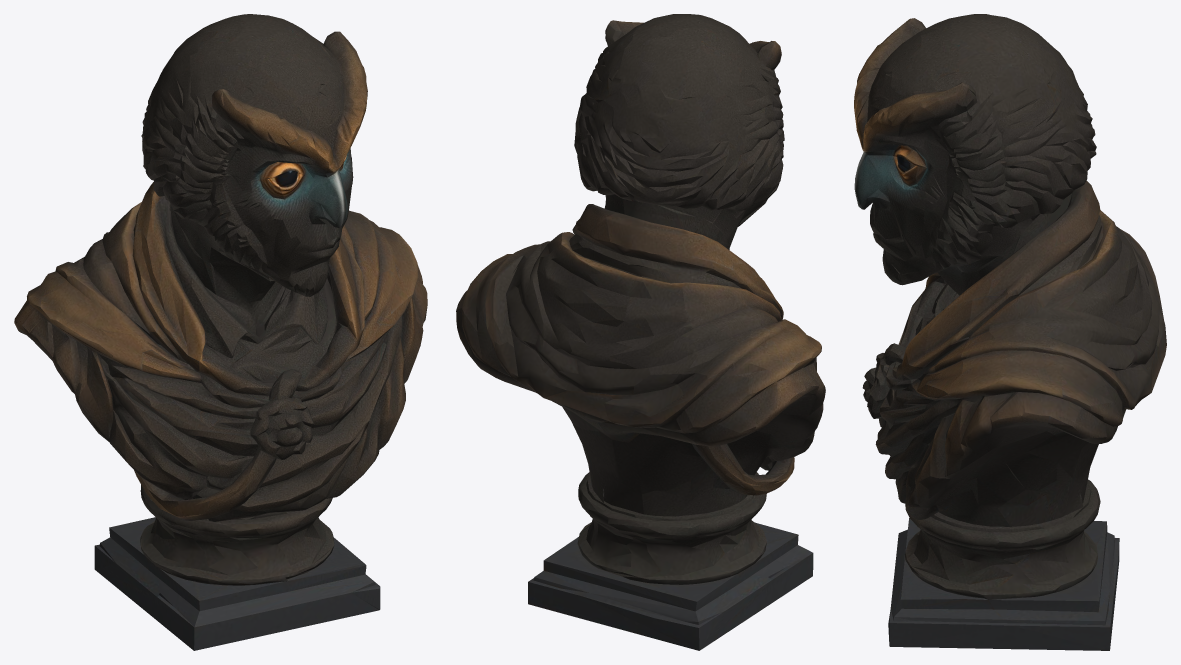
File: scholarBust.glb
The picture shows the model from 3 angles, left to right: view 1: azimuth 30°, elevation 25°; view 2: azimuth 150°, elevation 25°; view 3: azimuth 270°, elevation 25°; orthographic projection. The views are drawn at different scales.
Bounding box in the file's own units: 1.26 × 1.9 × 0.927.
Materials: 1 (1 with a texture image).
